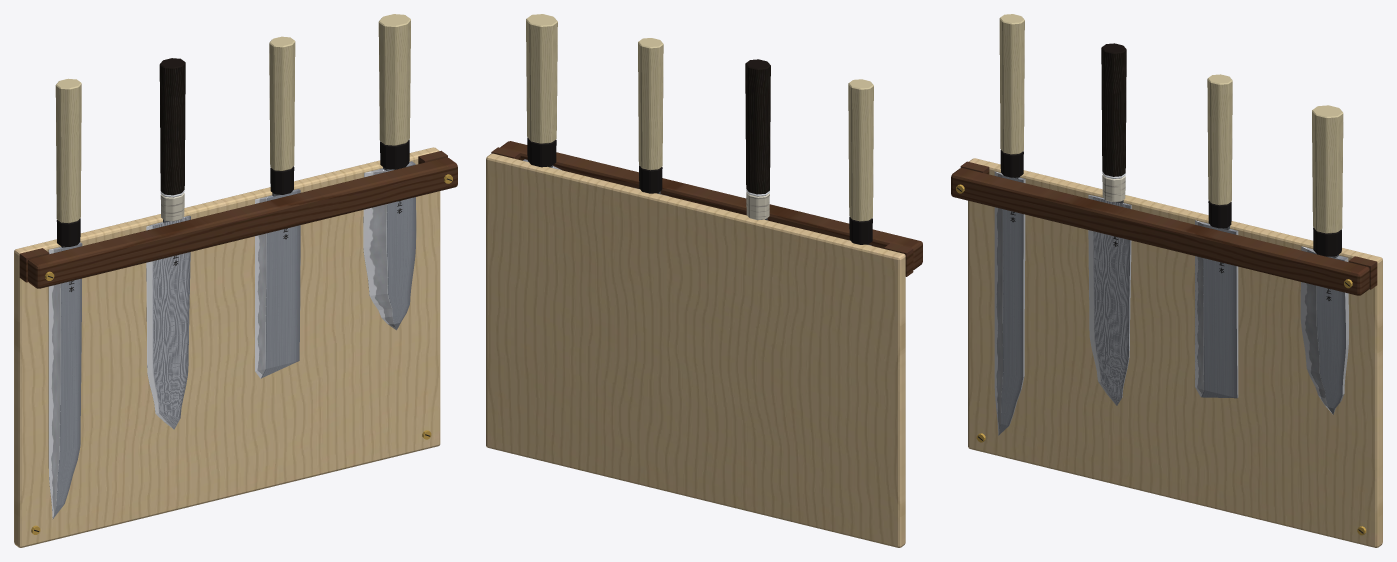
The model's file is knives.glb.
3 views of the same model, side by side, from view 1: azimuth 30°, elevation 25°; view 2: azimuth 150°, elevation 25°; view 3: azimuth 330°, elevation 25° (orthographic). The views are drawn at different scales.
Visible parts, largest first — view 1: KnifeBoard, KnifeRail, KnifeYanagiba, KnifeGyuto, KnifeUsuba, KnifeDeba, KnifeDebaHandle, KnifeYanagibaHandle, KnifeGyutoHandle, KnifeUsubaHandle, KnifeDebaFerrule, KnifeGyutoFerrule (+2 smaller); view 2: KnifeBoard, KnifeRail, KnifeDebaHandle, KnifeYanagibaHandle, KnifeGyutoHandle, KnifeUsubaHandle, KnifeDebaFerrule, KnifeUsubaFerrule, KnifeGyutoFerrule, KnifeYanagibaFerrule; view 3: KnifeBoard, KnifeRail, KnifeYanagiba, KnifeGyuto, KnifeUsuba, KnifeDeba, KnifeDebaHandle, KnifeYanagibaHandle, KnifeGyutoHandle, KnifeUsubaHandle, KnifeDebaFerrule, KnifeUsubaFerrule (+2 smaller).
Part boxes in pixels (x1,y1,x2,y2): KnifeBoard: (14,147,440,547); KnifeRail: (27,157,457,288); KnifeYanagiba: (48,242,82,519); KnifeGyuto: (146,215,190,429); KnifeUsuba: (255,189,300,378); KnifeDeba: (363,161,416,330); KnifeDebaHandle: (378,14,410,145); KnifeYanagibaHandle: (55,78,81,223); KnifeGyutoHandle: (159,58,185,195); KnifeUsubaHandle: (269,36,295,170); KnifeDebaFerrule: (380,139,409,169); KnifeGyutoFerrule: (160,193,184,221); KnifeBoard: (486,153,905,547); KnifeRail: (500,141,922,269); KnifeDebaHandle: (526,14,557,143); KnifeYanagibaHandle: (848,79,873,221); KnifeGyutoHandle: (745,59,770,194); KnifeUsubaHandle: (638,38,663,170); KnifeDebaFerrule: (527,137,556,167); KnifeUsubaFerrule: (639,165,662,193); KnifeGyutoFerrule: (746,192,769,220); KnifeYanagibaFerrule: (849,217,872,244); KnifeBoard: (968,158,1382,547); KnifeRail: (951,168,1369,295); KnifeYanagiba: (994,171,1025,435); KnifeGyuto: (1088,195,1131,405); KnifeUsuba: (1195,220,1238,398); KnifeDeba: (1300,246,1348,414); KnifeDebaHandle: (1312,105,1343,233); KnifeYanagibaHandle: (999,14,1024,154); KnifeGyutoHandle: (1101,43,1126,176); KnifeUsubaHandle: (1207,74,1232,205); KnifeDebaFerrule: (1313,227,1341,256); KnifeUsubaFerrule: (1208,200,1231,228).
Bounding box in the file's own units: 0.44 × 0.454 × 0.0471.
12 materials, 7 textured.
